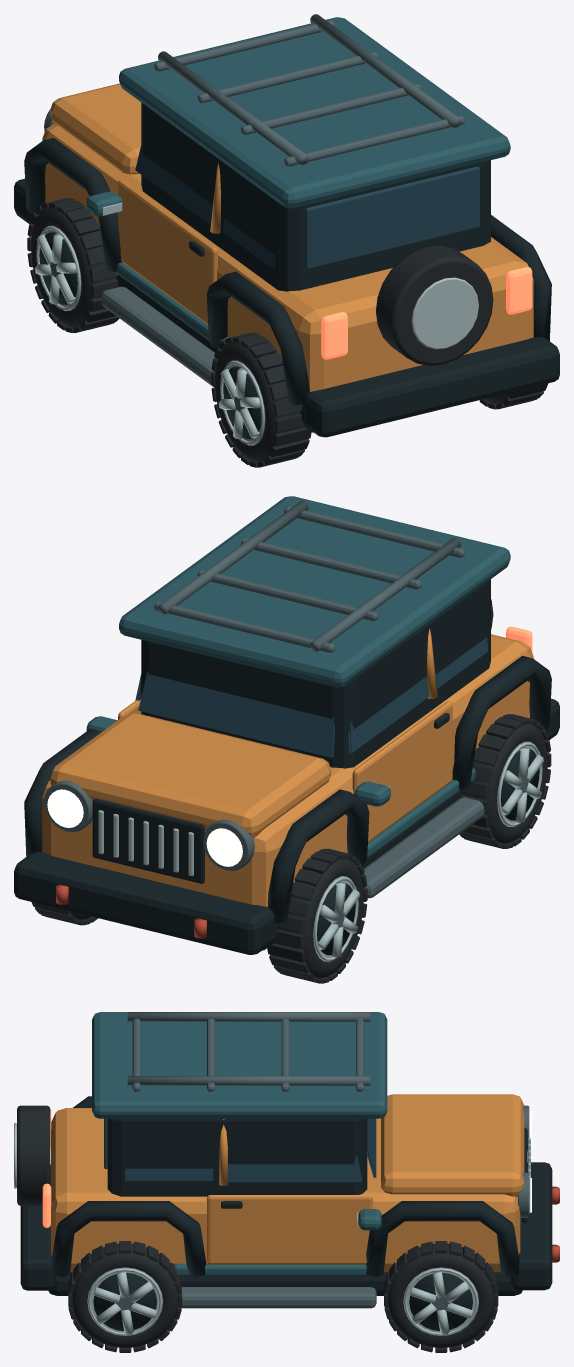
The model's file is trail-jeep.high.glb.
The picture shows the model from 3 angles, top to bottom: view 1: azimuth 30°, elevation 25°; view 2: azimuth 150°, elevation 25°; view 3: azimuth 270°, elevation 25°; orthographic projection. The views are drawn at different scales.
Parts seen in each view (by area): view 1: geometry:body:2, geometry:body:4, geometry:body:1, geometry:body:3, geometry:body:5, geometry:door-left:1, geometry:body:6, geometry:rear-left:6, geometry:front-left:6, geometry:body:0, geometry:body:9, geometry:front-left:0 (+6 smaller); view 2: geometry:body:2, geometry:body:4, geometry:body:1, geometry:body:3, geometry:body:5, geometry:door-left:1, geometry:front-left:6, geometry:rear-left:6, geometry:front-left:0, geometry:rear-left:0, geometry:body:7, geometry:door-left:5 (+5 smaller); view 3: geometry:body:2, geometry:body:1, geometry:body:4, geometry:body:3, geometry:door-right:1, geometry:front-right:6, geometry:rear-right:6, geometry:body:6, geometry:rear-right:0, geometry:front-right:0, geometry:door-right:5, geometry:body:5 (+4 smaller).
Boxes of the visible parts, x1,y1,x2,y2 form: geometry:body:2: (14,102,559,437); geometry:body:4: (115,17,510,343); geometry:body:1: (42,83,533,391); geometry:body:3: (44,14,464,387); geometry:body:5: (223,166,479,269); geometry:door-left:1: (118,163,220,324); geometry:body:6: (376,245,493,365); geometry:rear-left:6: (211,332,311,467); geometry:front-left:6: (27,198,119,332); geometry:body:0: (411,277,478,349); geometry:body:9: (321,267,532,359); geometry:front-left:0: (34,225,81,311); geometry:body:2: (14,579,559,954); geometry:body:4: (119,496,510,858); geometry:body:1: (42,634,533,906); geometry:body:3: (44,501,484,898); geometry:body:5: (138,637,488,757); geometry:door-left:1: (352,628,452,842); geometry:front-left:6: (267,848,367,983); geometry:rear-left:6: (459,714,551,848); geometry:front-left:0: (313,876,360,961); geometry:rear-left:0: (497,741,543,826); geometry:body:7: (47,789,242,866); geometry:door-left:5: (348,676,429,753); geometry:body:2: (20,1096,552,1295); geometry:body:1: (51,1094,524,1271); geometry:body:4: (92,1012,387,1275); geometry:body:3: (127,1012,529,1308); geometry:door-right:1: (207,1119,372,1264); geometry:front-right:6: (384,1241,498,1352); geometry:rear-right:6: (68,1241,182,1352); geometry:body:6: (17,1105,50,1205); geometry:rear-right:0: (87,1267,163,1335); geometry:front-right:0: (403,1267,478,1335); geometry:door-right:5: (228,1154,362,1182); geometry:body:5: (104,1118,376,1180).
Bounding box in the file's own units: 2.57 × 2.42 × 4.77.
